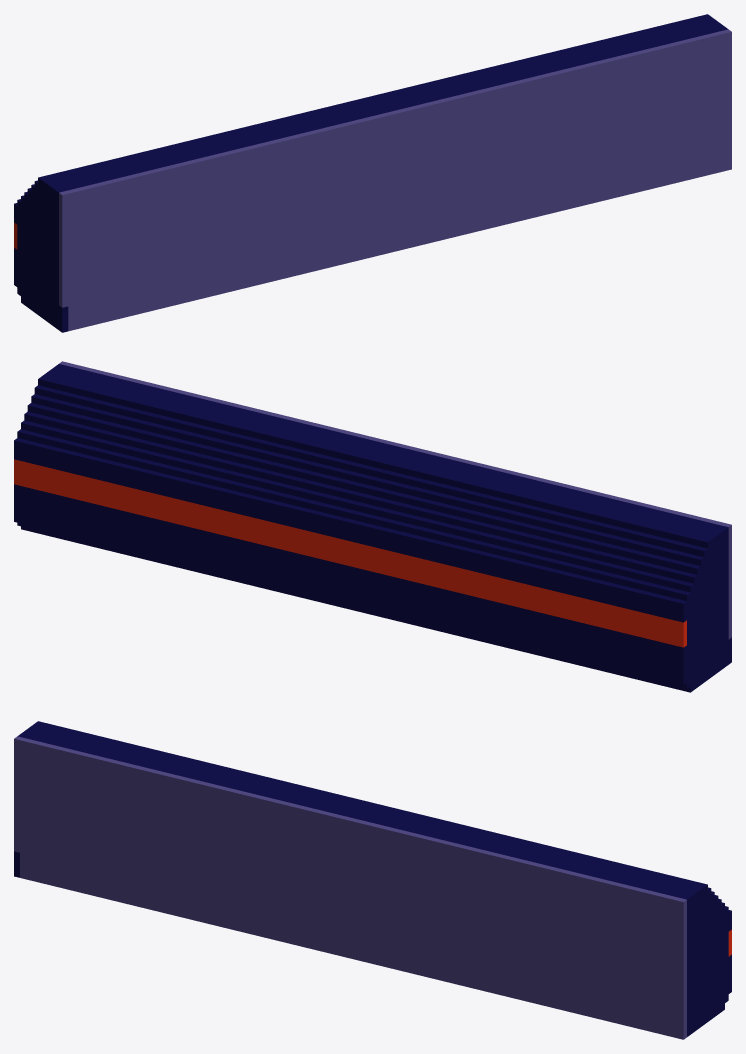
Rendered from escena nave interior-9-navedelantera.obj.
3 views of the same model, one above another, from view 1: azimuth 30°, elevation 25°; view 2: azimuth 150°, elevation 25°; view 3: azimuth 330°, elevation 25° (orthographic).
Visible parts, largest first — view 1: navedelantera; view 2: navedelantera; view 3: navedelantera.
Boxes of the visible parts, box(x1,y1,x2,y2) form: navedelantera: box(14, 14, 731, 332); navedelantera: box(14, 361, 731, 692); navedelantera: box(14, 721, 731, 1039).
Size of the model in its own units: 11.2 by 2.2 by 1.4.
1 material, 1 textured.
